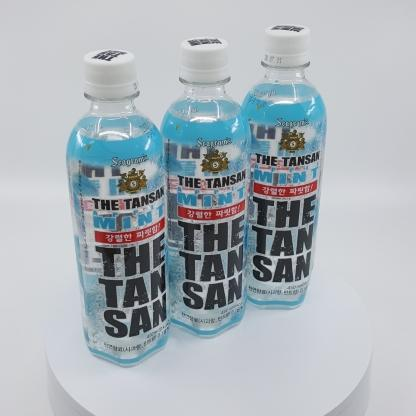------------450ML: (66, 49, 171, 368), (159, 37, 251, 339), (241, 24, 327, 309)
